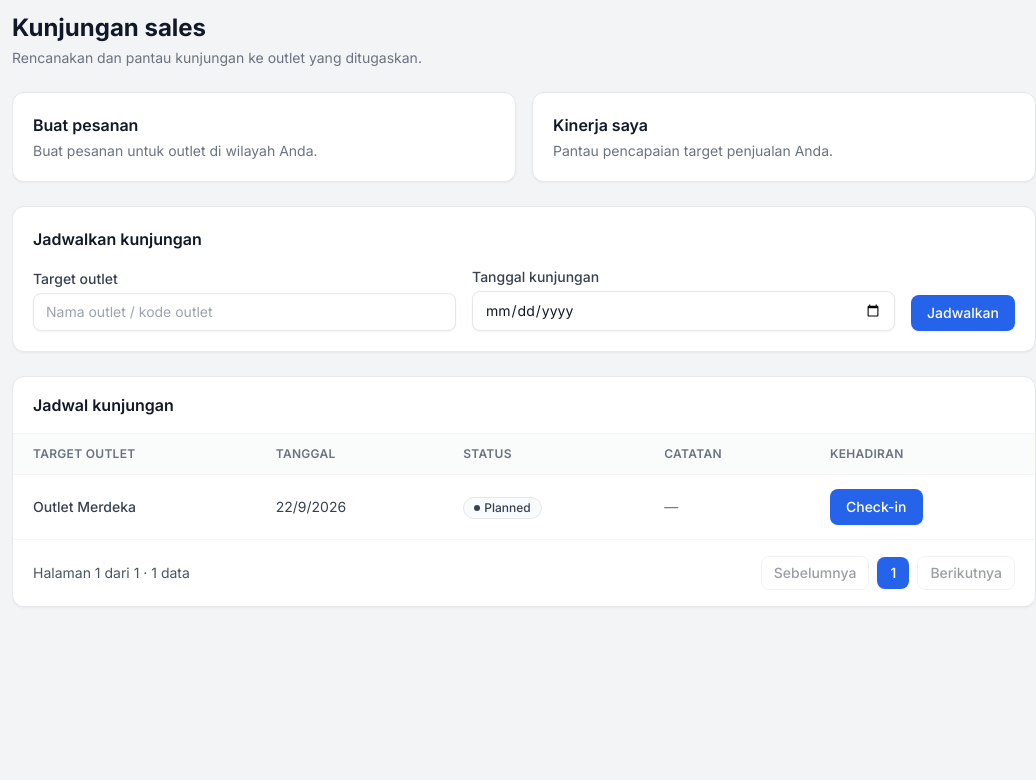
Test: sales visit check-in/out › requests geolocation and checks in a planned visit
Check: the text "Outlet Merdeka" is shown, box [33,498,136,515]
Click the button "Check-in". click: (876, 507)
box: [830,489,922,525]
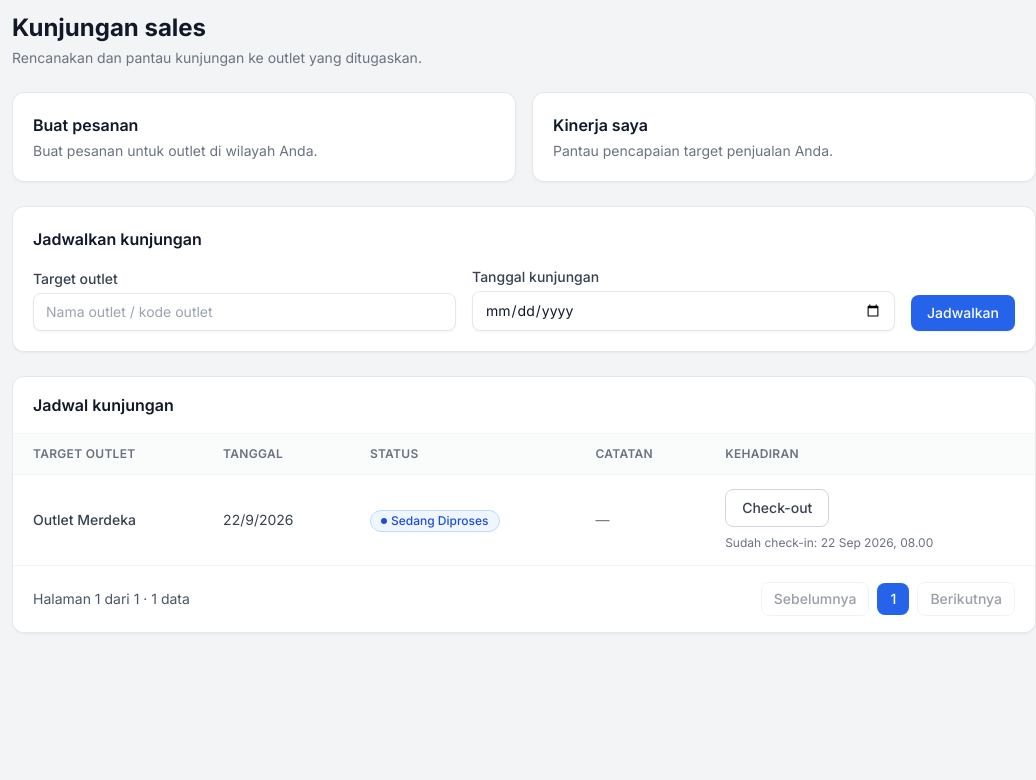
Check: the text "Sudah check-in: 22 Sep 2026, 08.00" is shown, box [725,535,933,550]
